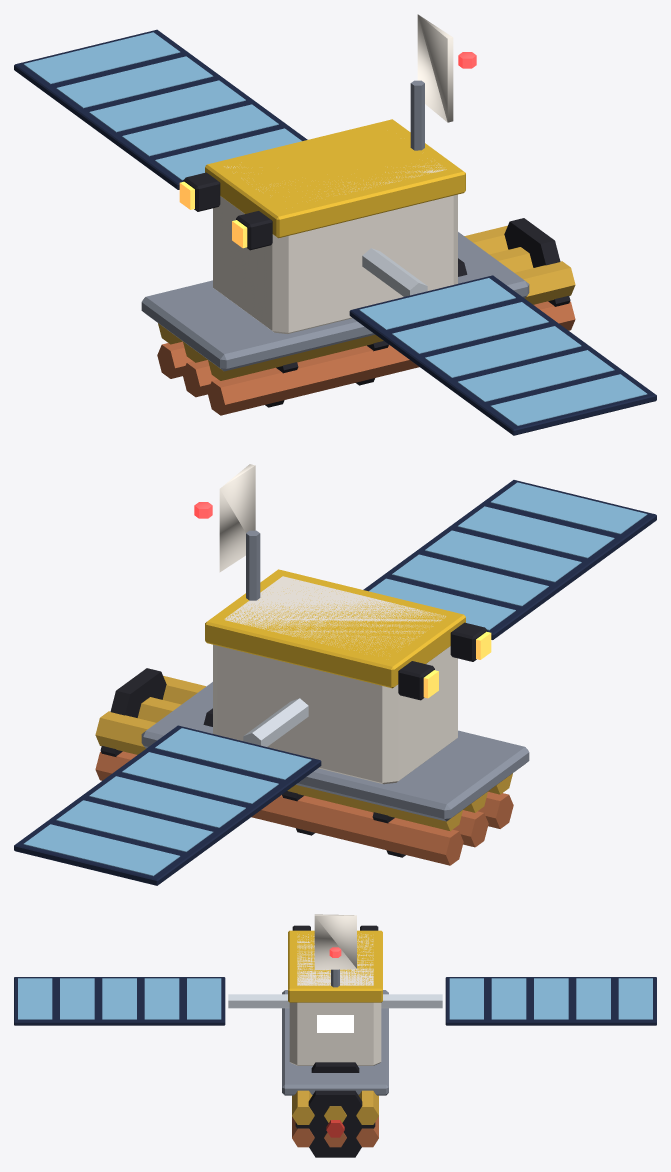
File: kinetic_sat.glb
3 renders of one model, top to bottom at view 1: azimuth 30°, elevation 25°; view 2: azimuth 150°, elevation 25°; view 3: azimuth 270°, elevation 25°, orthographic. The views are drawn at different scales.
Visible parts, largest first — view 1: kinetic_sat; view 2: kinetic_sat; view 3: kinetic_sat.
Boxes of the visible parts, x1,y1,x2,y2 form: kinetic_sat: [14, 14, 656, 435]; kinetic_sat: [14, 464, 656, 885]; kinetic_sat: [14, 914, 656, 1157].
Bounding box in the file's own units: 18 × 15.1 × 42.
Materials: 1 (1 with a texture image).
